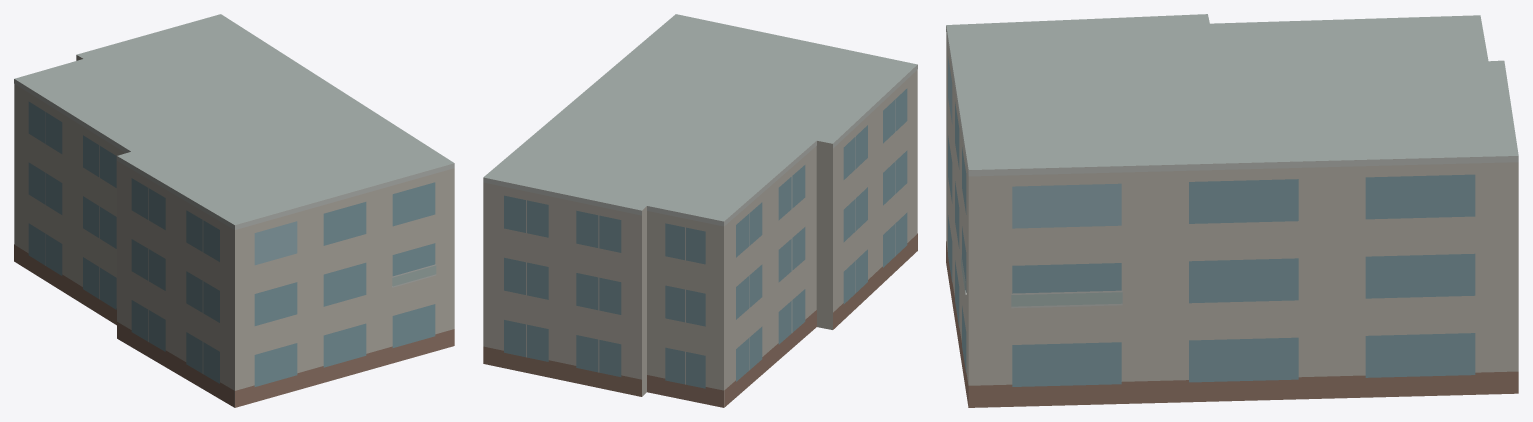
Rendered from survey-upis-32487793.glb.
3 renders of one model, left to right at view 1: azimuth 30°, elevation 25°; view 2: azimuth 150°, elevation 25°; view 3: azimuth 270°, elevation 25°, orthographic. The views are drawn at different scales.
Parts seen in each view (by area): view 1: survey-upis-32487793.tmp; view 2: survey-upis-32487793.tmp; view 3: survey-upis-32487793.tmp.
Part boxes in pixels (box(x1,y1,x2,y2)): survey-upis-32487793.tmp: box(14, 14, 454, 407); survey-upis-32487793.tmp: box(483, 14, 917, 407); survey-upis-32487793.tmp: box(946, 14, 1518, 407).
Size of the model in its own units: 12.9 by 9.15 by 19.98.
